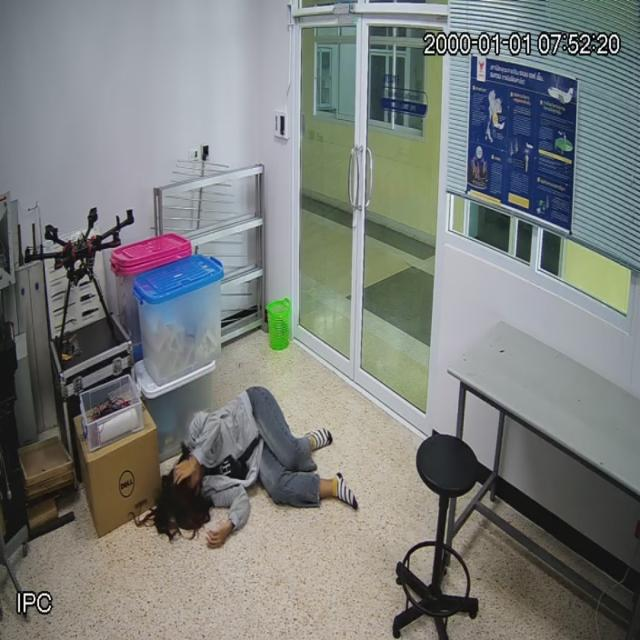fall: (157, 386, 359, 540)
